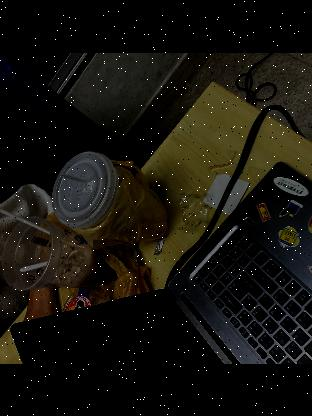Others: (72, 159, 170, 249), (0, 216, 119, 289), (47, 148, 117, 228), (96, 235, 152, 314), (203, 171, 251, 216), (174, 186, 210, 233), (0, 206, 50, 236), (58, 288, 96, 316), (18, 252, 48, 274), (152, 232, 166, 254)
